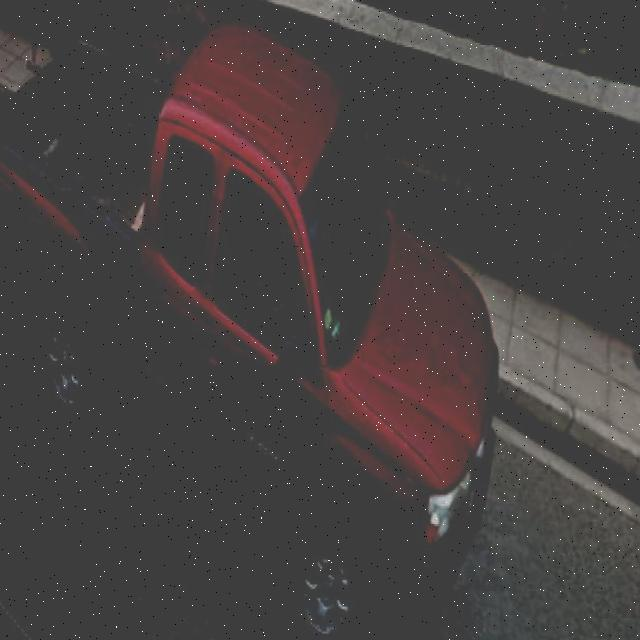car: (0, 25, 514, 640)
